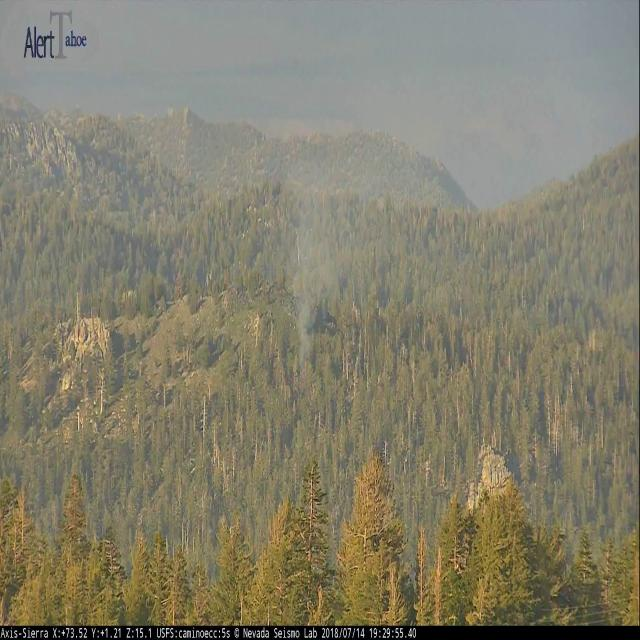smoke: (268, 128, 352, 371)
